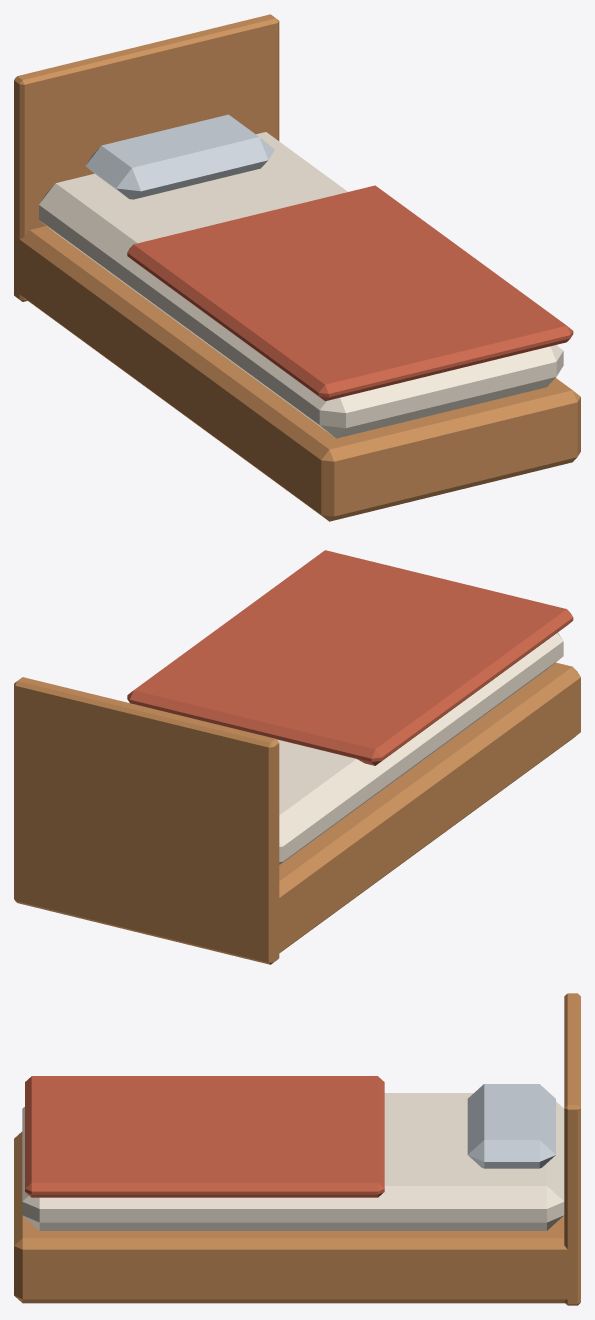
File: bed_single.glb
3 views of the same model, one above another, from view 1: azimuth 30°, elevation 25°; view 2: azimuth 150°, elevation 25°; view 3: azimuth 270°, elevation 25° (orthographic). The views are drawn at different scales.
Visible parts, largest first — view 1: blanket, frame, mattress, headboard, pillow; view 2: headboard, blanket, frame, mattress; view 3: blanket, frame, mattress, pillow, headboard.
Part boxes in pixels (bbox=[...]): blanket: bbox=[127, 185, 573, 401]; frame: bbox=[18, 226, 580, 521]; mattress: bbox=[39, 132, 563, 438]; headboard: bbox=[14, 14, 279, 301]; pillow: bbox=[86, 114, 274, 199]; headboard: bbox=[14, 677, 279, 964]; blanket: bbox=[127, 550, 573, 765]; frame: bbox=[278, 662, 580, 953]; mattress: bbox=[277, 632, 563, 864]; blanket: bbox=[25, 1076, 384, 1197]; frame: bbox=[14, 1131, 569, 1303]; mattress: bbox=[22, 1093, 564, 1230]; pillow: bbox=[467, 1084, 555, 1168]; headboard: bbox=[564, 993, 580, 1305].
Size of the model in its own units: 0.98 by 0.8 by 2.05.
